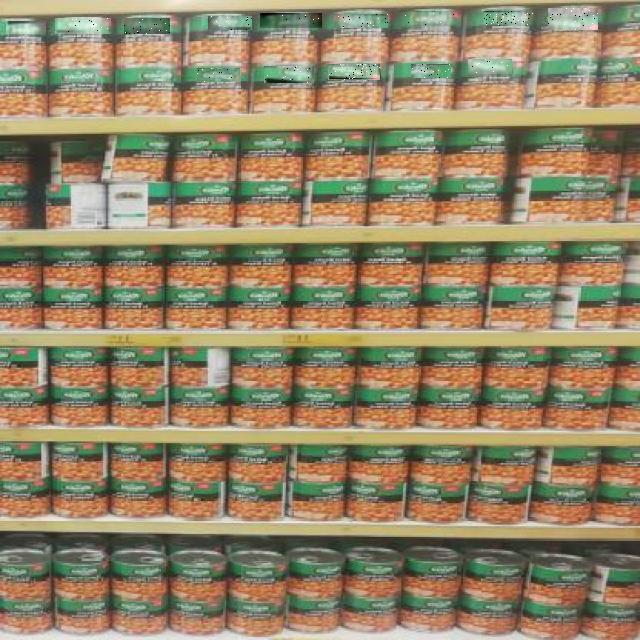Beans: (548, 8, 598, 30), (398, 12, 457, 30), (260, 14, 322, 30), (55, 18, 111, 34), (264, 66, 314, 83), (328, 65, 380, 81), (482, 11, 533, 26), (334, 14, 388, 28), (124, 18, 170, 34), (468, 60, 512, 76), (208, 16, 252, 30), (197, 69, 240, 83), (411, 64, 451, 78), (6, 21, 46, 34)
